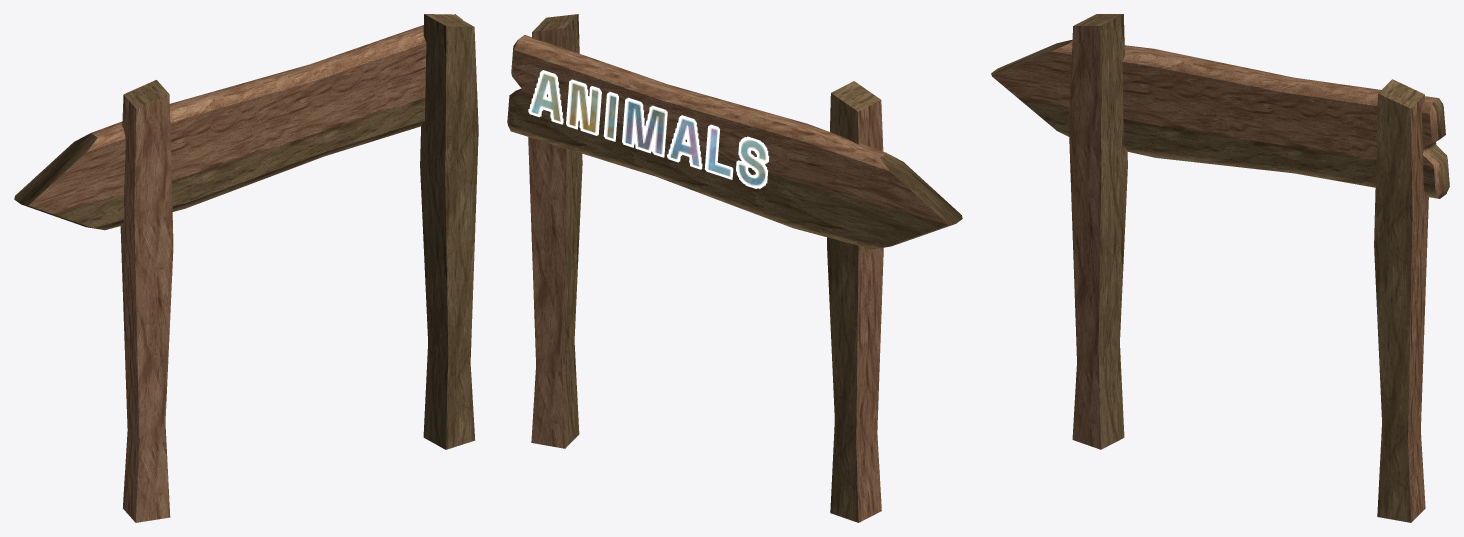
Rendered from s0_Str_Sign_Dir_Art_01.glb.
3 renders of one model, left to right at view 1: azimuth 30°, elevation 25°; view 2: azimuth 150°, elevation 25°; view 3: azimuth 330°, elevation 25°, orthographic.
Visible parts, largest first — view 1: node_Str_Sign_Dir_Art; view 2: node_Str_Sign_Dir_Art, node_Str_Sign_Dir_Animals; view 3: node_Str_Sign_Dir_Art.
Part boxes in pixels (x1,y1,x2,y2): node_Str_Sign_Dir_Art: [14, 14, 478, 522]; node_Str_Sign_Dir_Art: [507, 14, 962, 522]; node_Str_Sign_Dir_Animals: [528, 70, 769, 188]; node_Str_Sign_Dir_Art: [991, 14, 1449, 522].
Size of the model in its own units: 2.98 by 2.67 by 0.3669.
2 materials, 2 textured.
